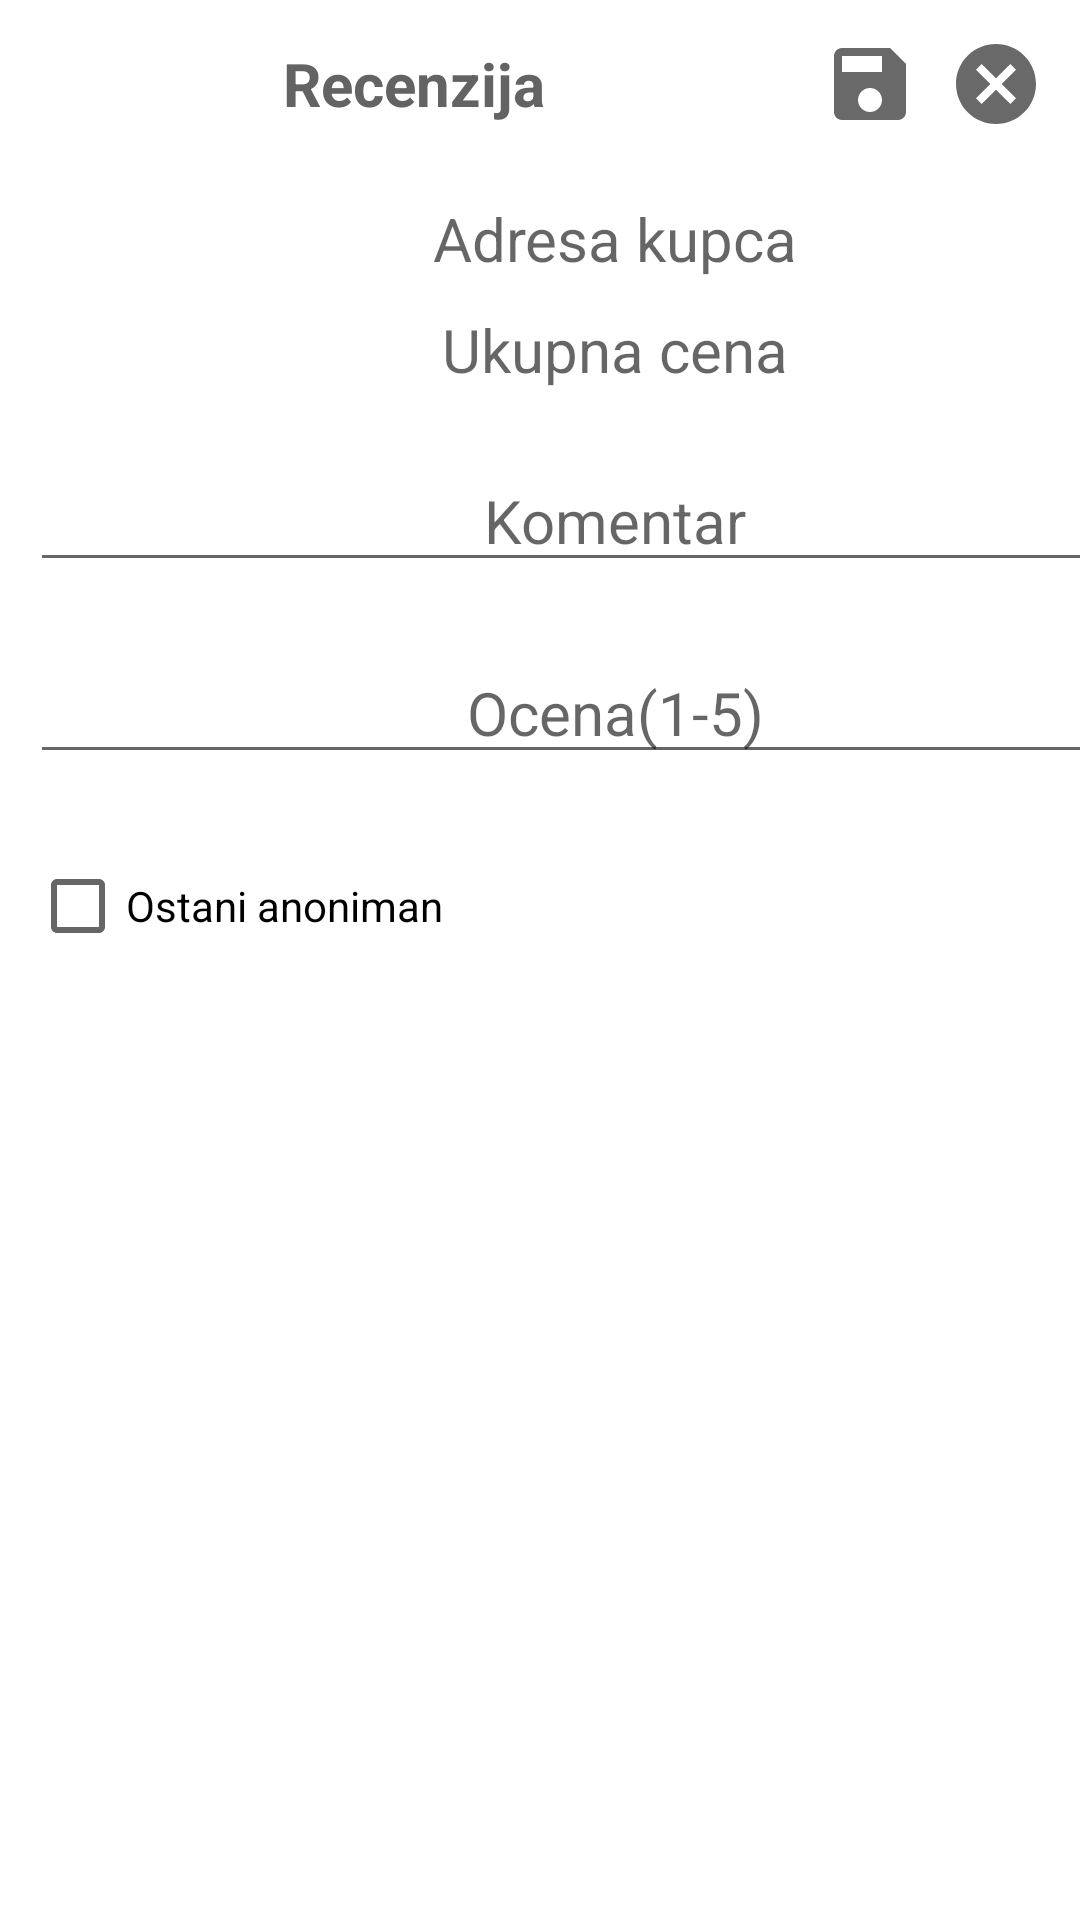

Named icons in this screenshot (1080x1920) and their centers, (x,y):
cancel: (996,84)
save: (870,84)
